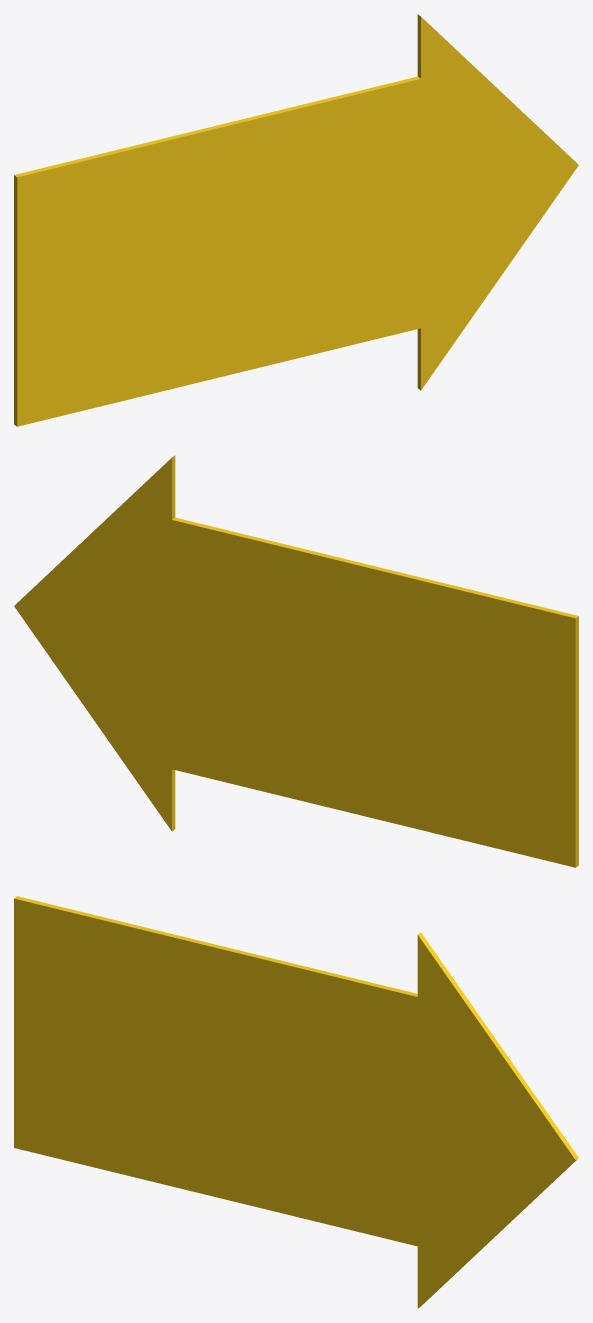
File: arrow_3.fbx
3 renders of one model, top to bottom at view 1: azimuth 30°, elevation 25°; view 2: azimuth 150°, elevation 25°; view 3: azimuth 330°, elevation 25°, orthographic.
Visible parts, largest first — view 1: Arrow; view 2: Arrow; view 3: Arrow.
Boxes of the visible parts, box(x1,y1,x2,y2) form: Arrow: box(14, 14, 578, 426); Arrow: box(14, 455, 578, 867); Arrow: box(14, 896, 578, 1308).
Bounding box in the file's own units: 100 × 63.64 × 1.
